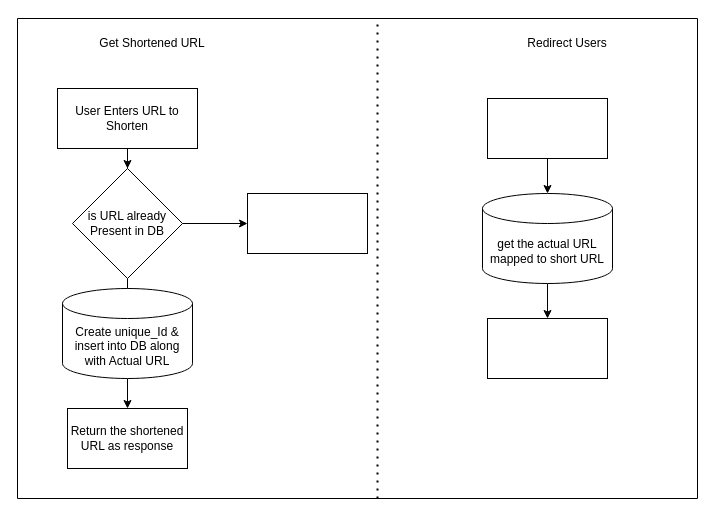
Some shapes in this 716 by 517 pixel diagram are drawn without their labels. The shapes that lost their labels are listed below. From the top down, each one's centre as x and y in pixels, then its label:
At (x=547, y=128): "User Visits Shortened URL".
At (x=307, y=223): "Return Shortened URL".
At (x=547, y=348): "Redirect User to the actual URL".
